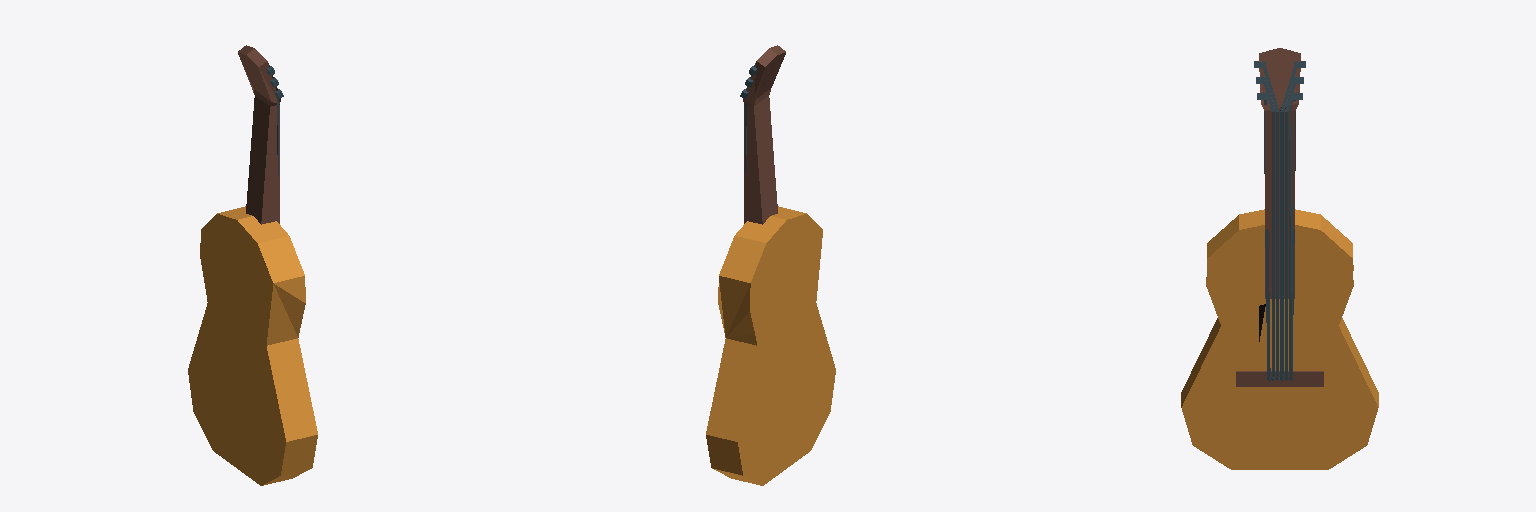
The model's file is Acoustic_Guitar_01.obj.
3 views of the same model, side by side, from view 1: azimuth 30°, elevation 25°; view 2: azimuth 150°, elevation 25°; view 3: azimuth 270°, elevation 25° (orthographic).
Parts seen in each view (by area): view 1: Acoustic_Guitar_01; view 2: Acoustic_Guitar_01; view 3: Acoustic_Guitar_01.
Boxes of the visible parts, x1=… form: Acoustic_Guitar_01: x1=188, y1=45, x2=317, y2=485; Acoustic_Guitar_01: x1=706, y1=45, x2=835, y2=485; Acoustic_Guitar_01: x1=1181, y1=48, x2=1378, y2=469.
Bounding box in the file's own units: 2.16 × 22.69 × 9.75.